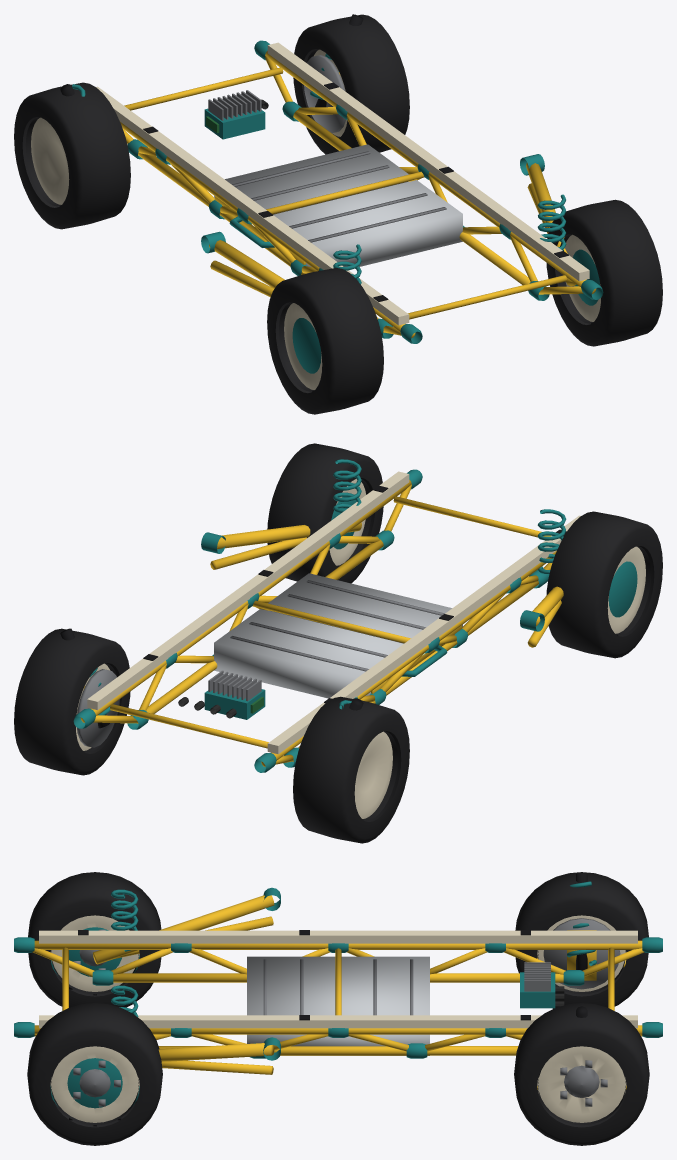
File: solana_m16.glb
3 views of the same model, one above another, from view 1: azimuth 30°, elevation 25°; view 2: azimuth 150°, elevation 25°; view 3: azimuth 270°, elevation 25° (orthographic). The views are drawn at different scales.
Parts seen in each view (by area): view 1: cassette, wheel_FL, wheel_BL, wheel_BR, wheel_FR, truss_R, mount_rail_R, mount_rail_L, truss_L, corner_BL, controller, corner_BR (+5 smaller); view 2: cassette, wheel_FL, wheel_BL, wheel_FR, wheel_BR, truss_R, mount_rail_R, mount_rail_L, truss_L, corner_BR, controller, corner_BL (+5 smaller); view 3: wheel_FR, wheel_BR, cassette, truss_L, wheel_BL, mount_rail_L, wheel_FL, truss_R, mount_rail_R, corner_BL, corner_BR, corner_FL (+6 smaller).
Part boxes in pixels (x1,y1,x2,y2): cassette: [214, 144, 462, 267]; wheel_FL: [14, 82, 130, 229]; wheel_BL: [267, 268, 383, 414]; wheel_BR: [546, 199, 662, 346]; wheel_FR: [293, 14, 409, 154]; truss_R: [254, 40, 603, 300]; mount_rail_R: [267, 42, 589, 281]; mount_rail_L: [96, 86, 409, 325]; truss_L: [120, 122, 422, 343]; corner_BL: [201, 231, 361, 297]; controller: [204, 90, 268, 139]; corner_BR: [520, 154, 576, 286]; cassette: [214, 573, 462, 698]; wheel_FL: [293, 696, 409, 843]; wheel_BL: [546, 511, 662, 658]; wheel_FR: [14, 628, 130, 775]; wheel_BR: [267, 443, 383, 583]; truss_R: [73, 469, 422, 729]; mount_rail_R: [87, 471, 409, 710]; mount_rail_L: [267, 515, 580, 754]; truss_L: [254, 551, 556, 772]; corner_BR: [201, 459, 361, 569]; controller: [178, 670, 265, 719]; corner_BL: [520, 509, 566, 647]; wheel_FR: [514, 1003, 649, 1145]; wheel_BR: [27, 1003, 162, 1145]; cassette: [247, 956, 429, 1055]; truss_L: [14, 937, 662, 985]; wheel_BL: [28, 872, 161, 1007]; mount_rail_L: [39, 930, 637, 943]; wheel_FL: [515, 872, 648, 1008]; truss_R: [14, 1022, 662, 1058]; mount_rail_R: [39, 1015, 637, 1028]; corner_BL: [92, 887, 280, 964]; corner_BR: [111, 985, 280, 1074]; corner_FL: [537, 873, 626, 989].
Size of the model in its own units: 1.26 by 0.4966 by 2.2.
